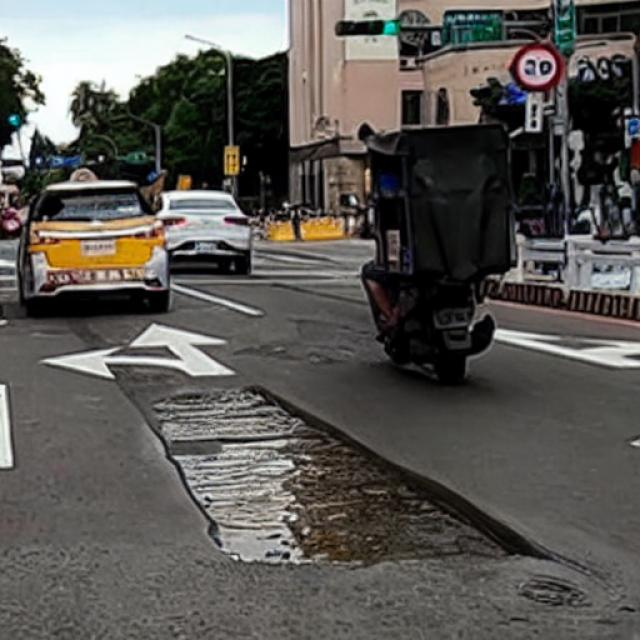puddle: (155, 389, 543, 567)
